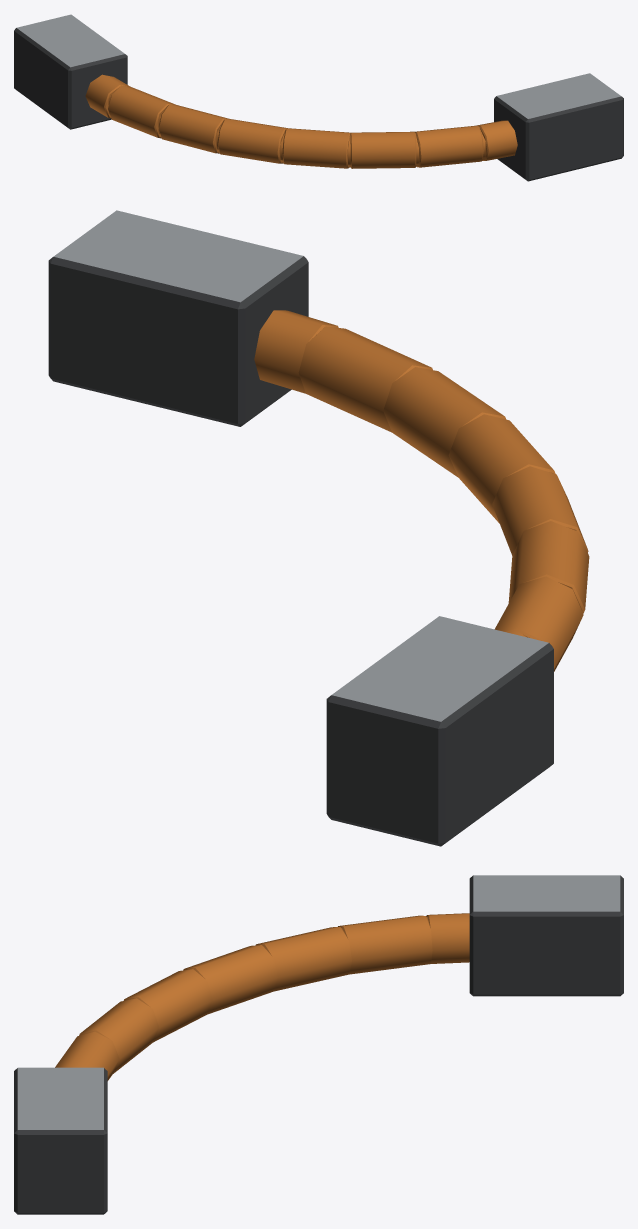
The model's file is R4C_ROD_ARC_LONG_LOD1.fbx.
3 renders of one model, top to bottom at view 1: azimuth 30°, elevation 25°; view 2: azimuth 150°, elevation 25°; view 3: azimuth 270°, elevation 25°, orthographic. The views are drawn at different scales.
Parts seen in each view (by area): view 1: R4C_ROD_ARC_LONG_LOD1; view 2: R4C_ROD_ARC_LONG_LOD1; view 3: R4C_ROD_ARC_LONG_LOD1.
Boxes of the visible parts, bbox=[...] form: R4C_ROD_ARC_LONG_LOD1: bbox=[14, 14, 623, 181]; R4C_ROD_ARC_LONG_LOD1: bbox=[48, 210, 589, 846]; R4C_ROD_ARC_LONG_LOD1: bbox=[14, 875, 623, 1214].
Bounding box in the file's own units: 1.47 × 0.226 × 1.47.
